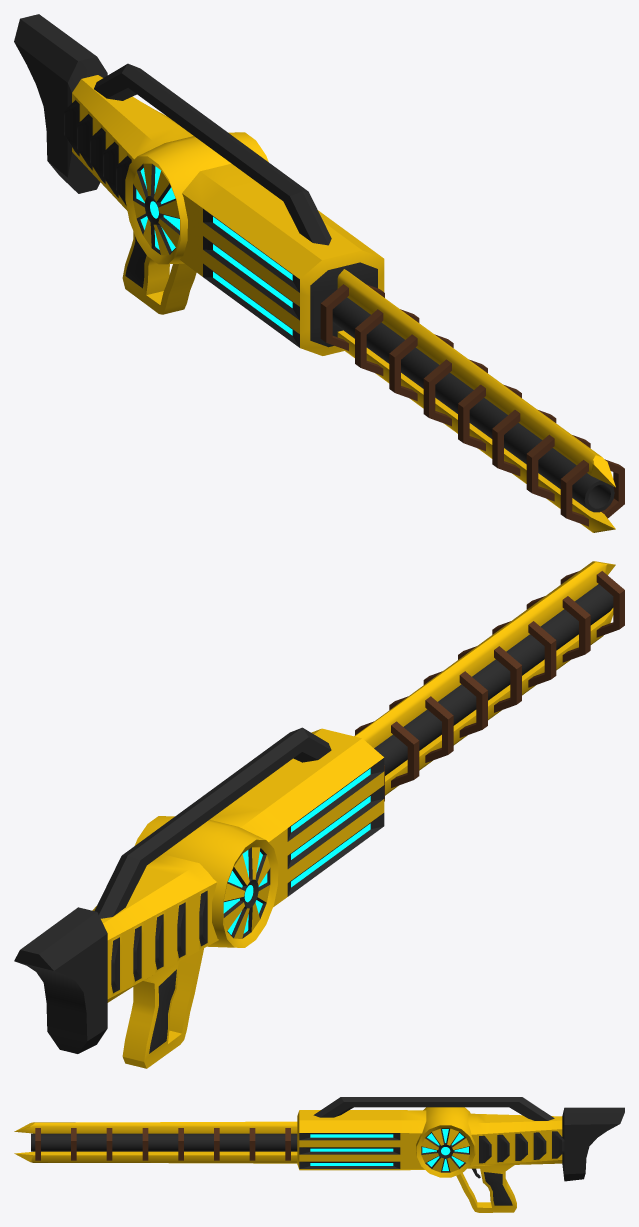
File: GaussCannon.fbx
The picture shows the model from 3 angles, top to bottom: view 1: azimuth 30°, elevation 25°; view 2: azimuth 150°, elevation 25°; view 3: azimuth 270°, elevation 25°; orthographic projection. The views are drawn at different scales.
Visible parts, largest first — view 1: Body; view 2: Body; view 3: Body.
Part boxes in pixels (x1=…): Body: x1=14, y1=14, x2=624, y2=532; Body: x1=14, y1=561, x2=624, y2=1068; Body: x1=14, y1=1097, x2=624, y2=1212.
Size of the model in its own units: 0.1777 by 0.3722 by 1.82.
